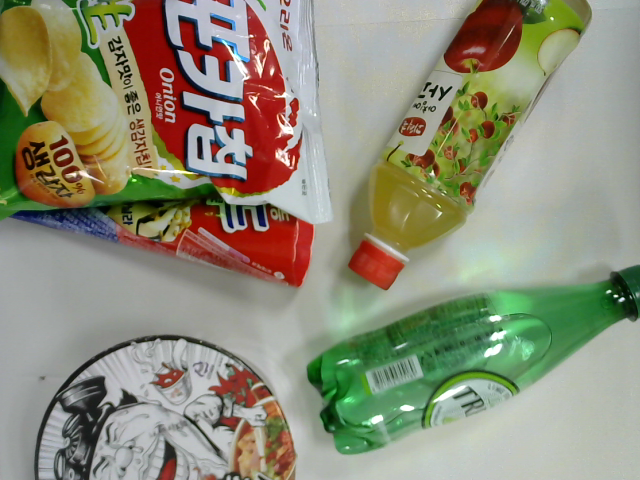HeJangsock: (31, 330, 305, 480)
Morning_Apple_500ml: (344, 1, 601, 296)
Pocachip_Onion: (1, 1, 353, 236)
Treviraim_500ml: (300, 254, 640, 462)
World_Cone_Banila: (1, 184, 318, 294)
